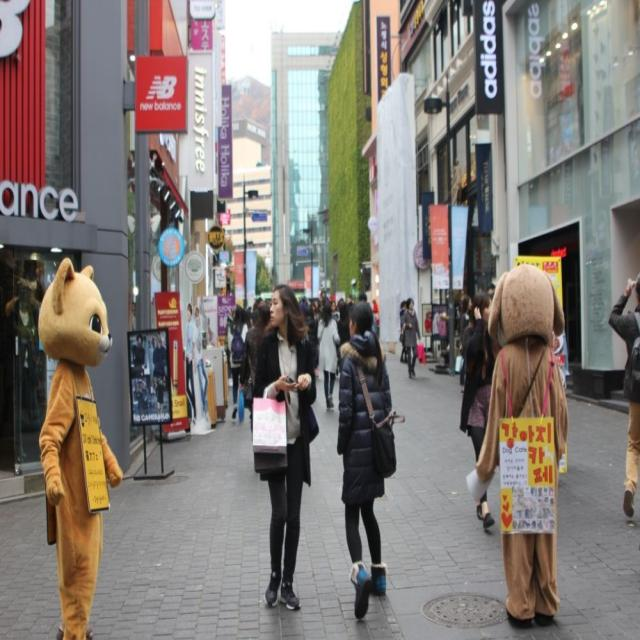body: (464, 261, 571, 628), (30, 249, 127, 640), (247, 280, 320, 615), (332, 296, 401, 622), (459, 292, 502, 528), (605, 268, 639, 521), (315, 298, 342, 412), (183, 303, 209, 421), (134, 338, 171, 409), (227, 304, 249, 420), (400, 296, 422, 380), (458, 295, 473, 395), (243, 309, 259, 396), (294, 292, 341, 316), (335, 299, 354, 346), (426, 311, 454, 338), (399, 299, 408, 364), (244, 294, 269, 316), (479, 278, 496, 302)
